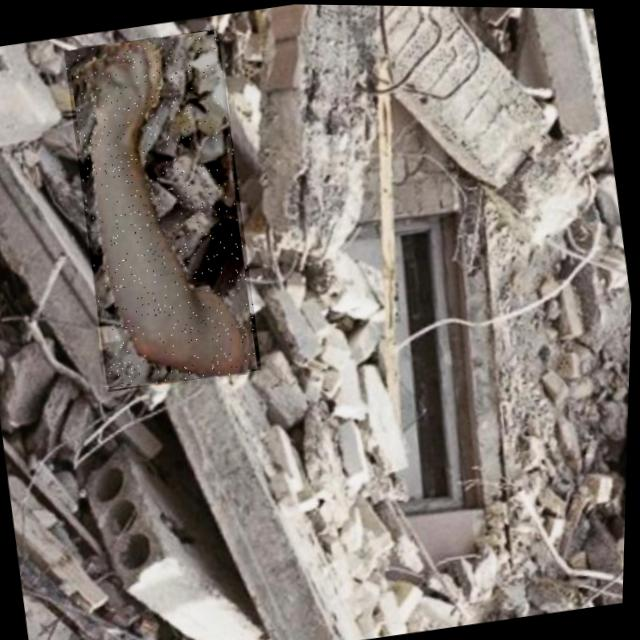Person in Rubble: (55, 26, 271, 394)
